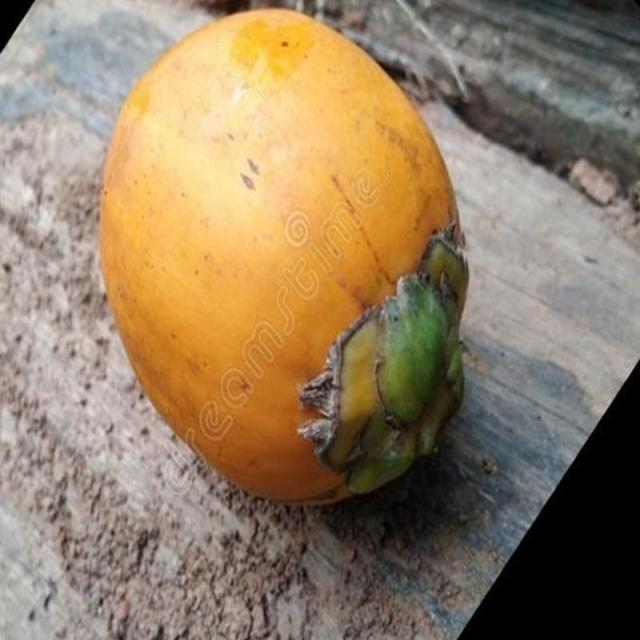good: (97, 9, 470, 510)
